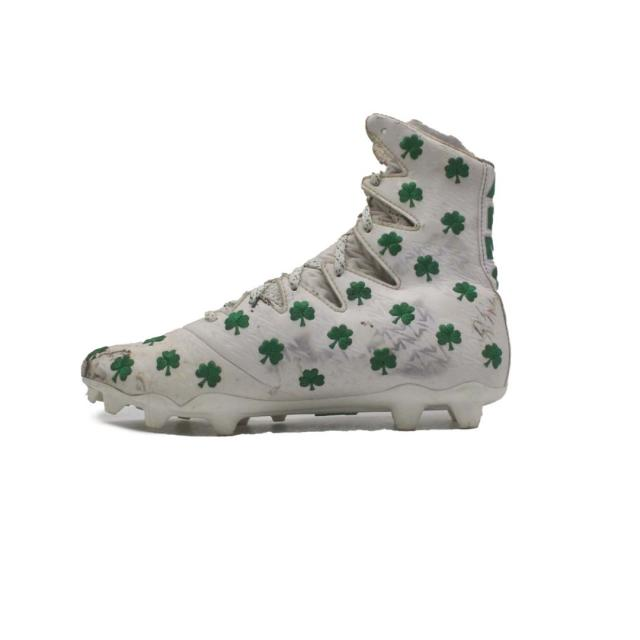heel: (464, 156, 512, 385)
midsole: (86, 375, 502, 440)
uppersole: (79, 119, 477, 399)
